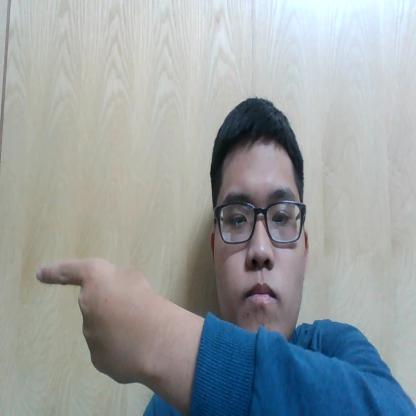right: (33, 253, 161, 395)
